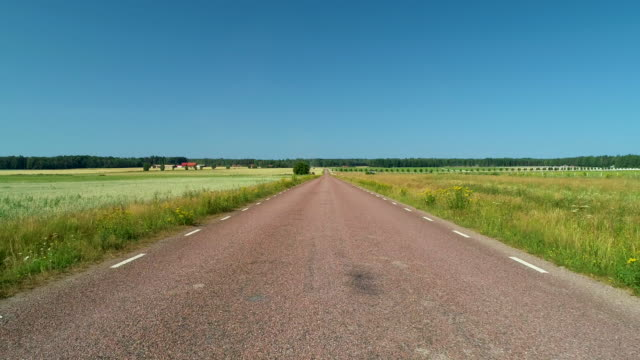straightRoad: (237, 176, 453, 360)
